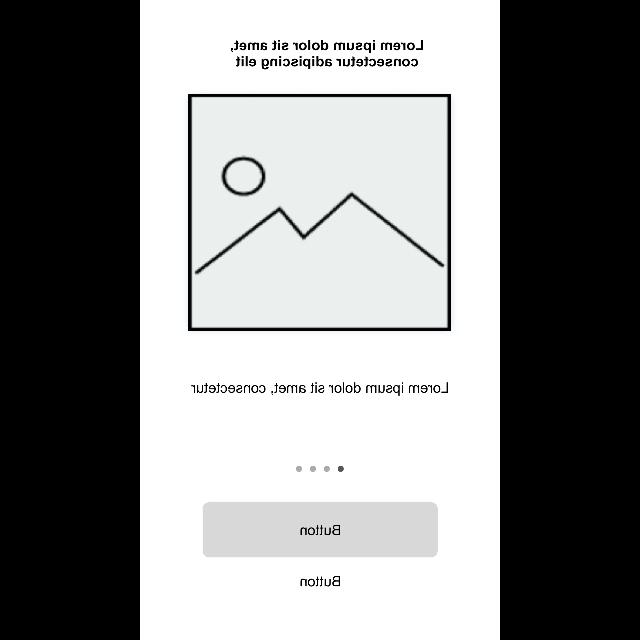image: (188, 94, 450, 330)
pageindicator: (296, 466, 344, 472)
text: (231, 40, 423, 70), (190, 382, 448, 396), (300, 576, 340, 586)
textbutton: (202, 502, 438, 558)
